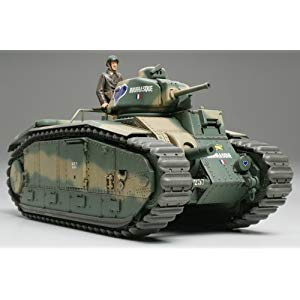Battle Tank: (4, 76, 299, 245)
